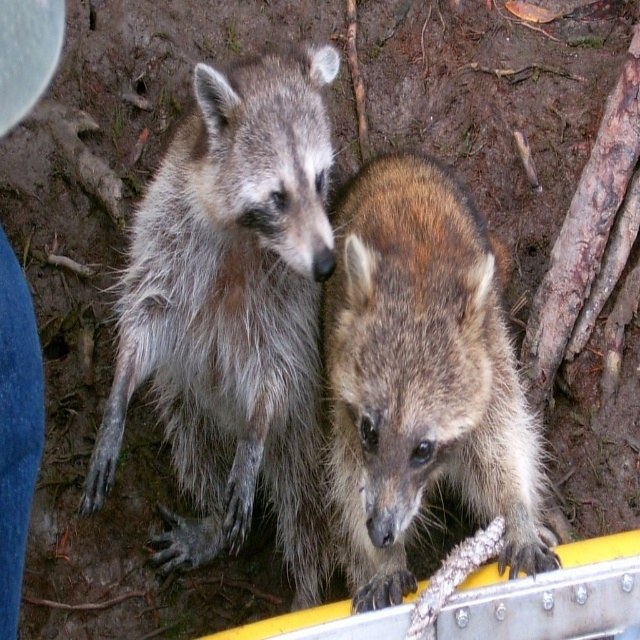Raccoon: (79, 34, 362, 612), (319, 148, 563, 616)
